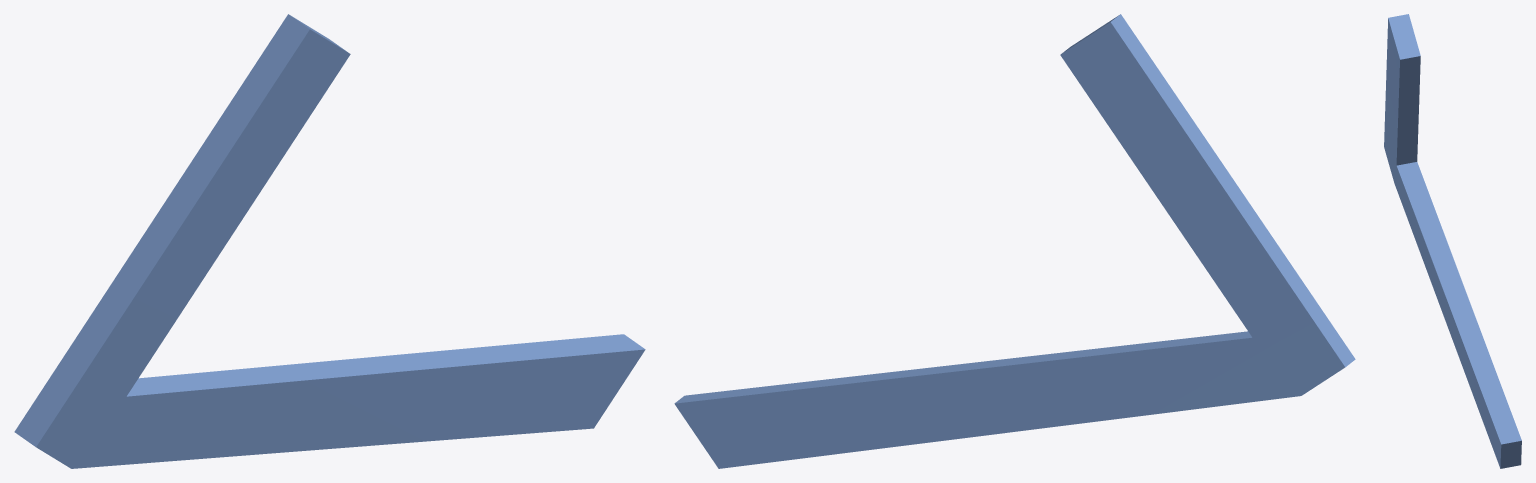
The model's file is New_Number_7.gltf.
3 renders of one model, left to right at view 1: azimuth 30°, elevation 25°; view 2: azimuth 150°, elevation 25°; view 3: azimuth 270°, elevation 25°, orthographic. The views are drawn at different scales.
Parts seen in each view (by area): view 1: Part 439; view 2: Part 439; view 3: Part 439.
Boxes of the visible parts, left/top/right/bottom form: Part 439: left=14, top=14, right=645, bottom=468; Part 439: left=674, top=14, right=1355, bottom=468; Part 439: left=1384, top=14, right=1521, bottom=468.
Size of the model in its own units: 0.00601 by 0.00455 by 0.00166.
